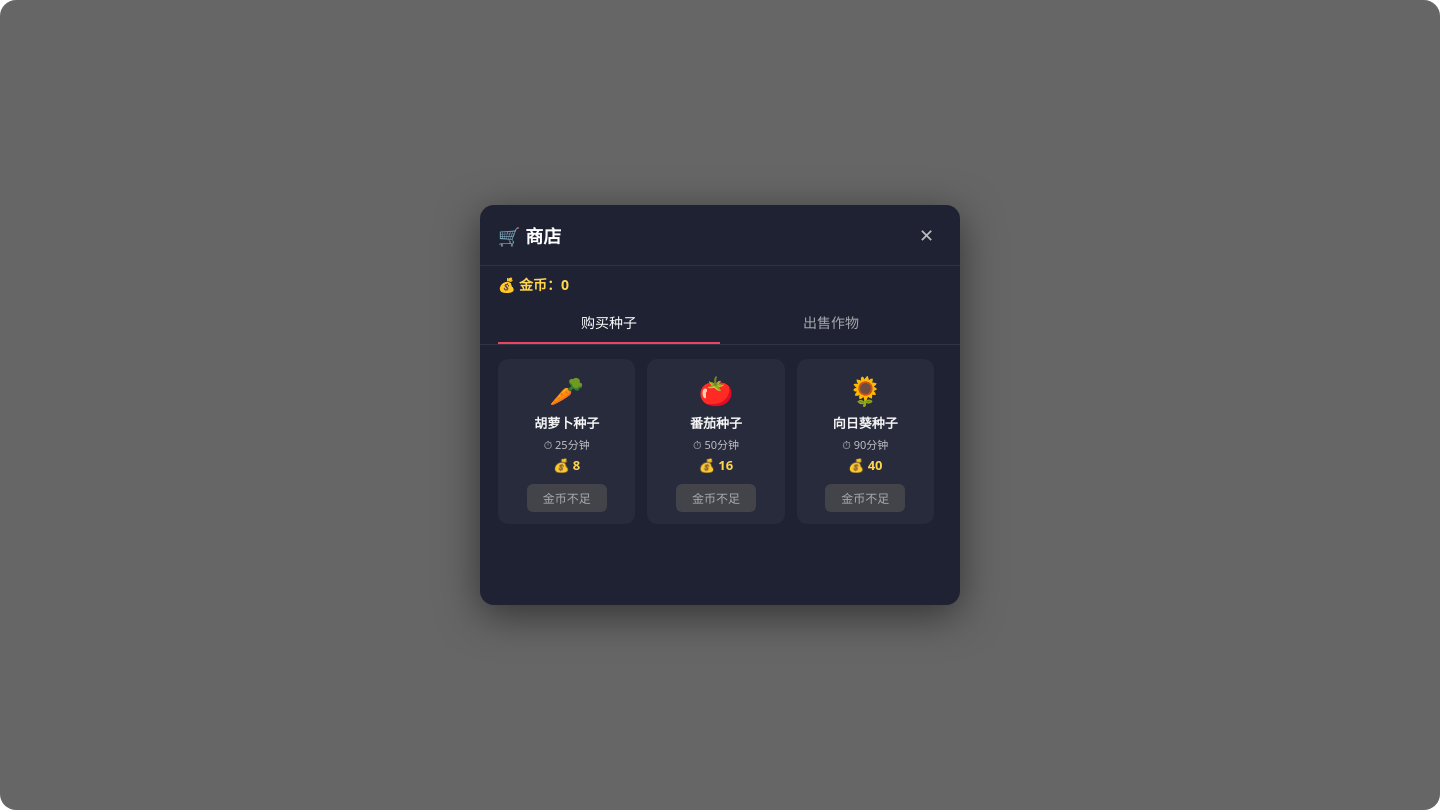
Test: GardenShop.vue › 出售 tab 只显示 count>0 的作物
Click the button with class "shop-tab" showing "出售作物" at (831, 323), box x1=720 y1=302 x2=942 y2=344
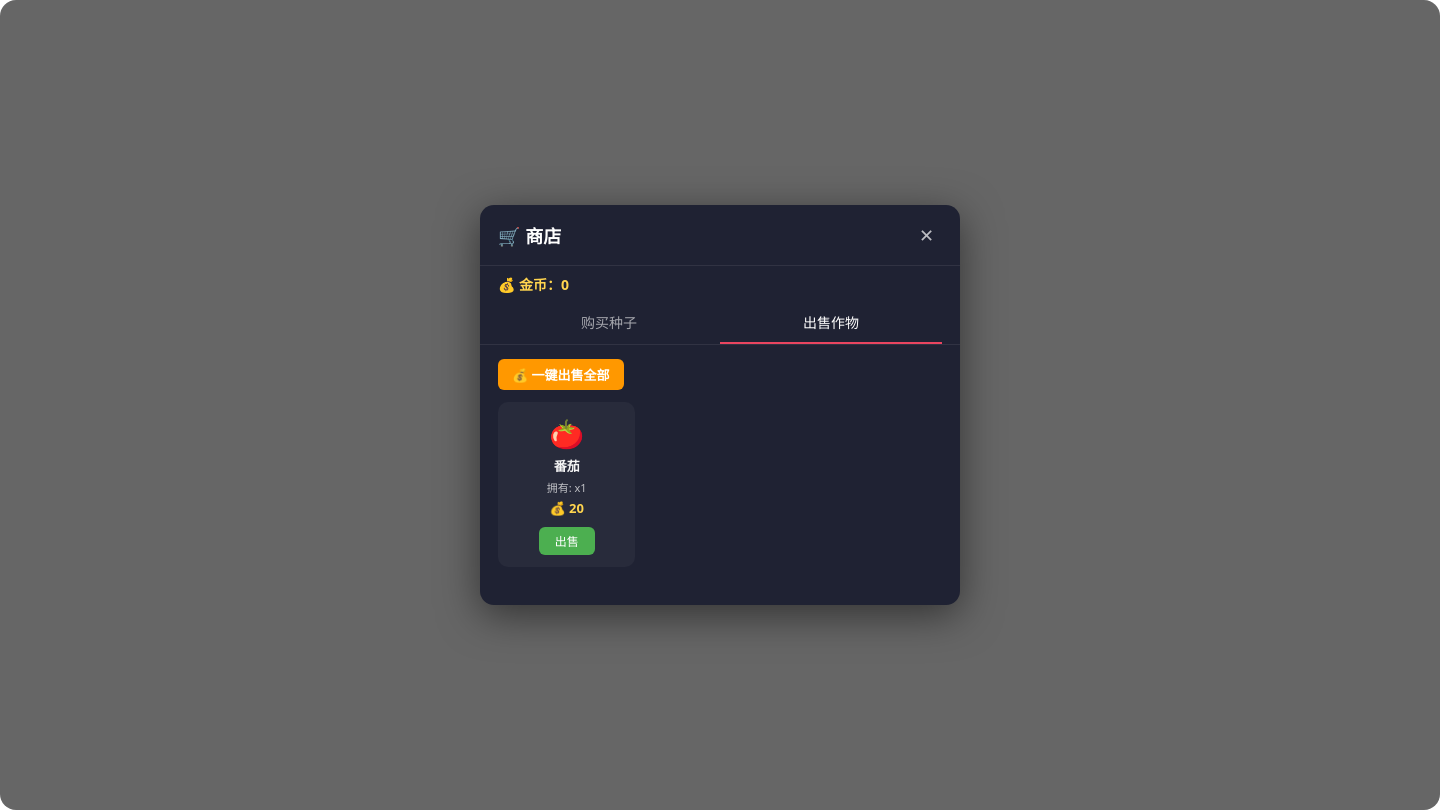
Expected: the text with class "shop-item__name" reads "番茄", x1=554 y1=457 x2=580 y2=475
Now the number of elements with class "shop-item" is 1, box x1=498 y1=402 x2=635 y2=567
